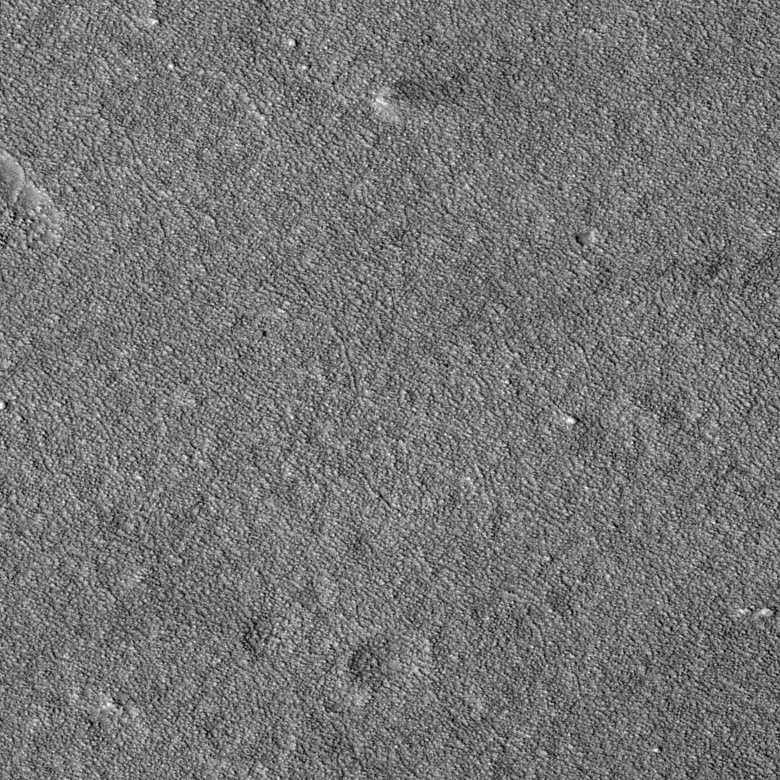dust_devil: (370, 71, 466, 120)
